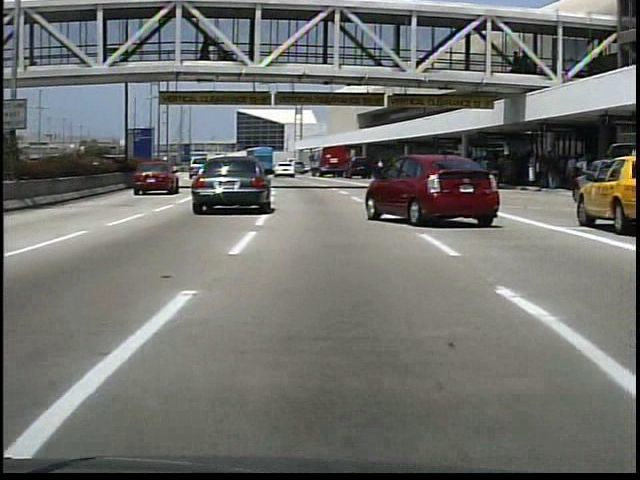person: (201, 33, 217, 61)
